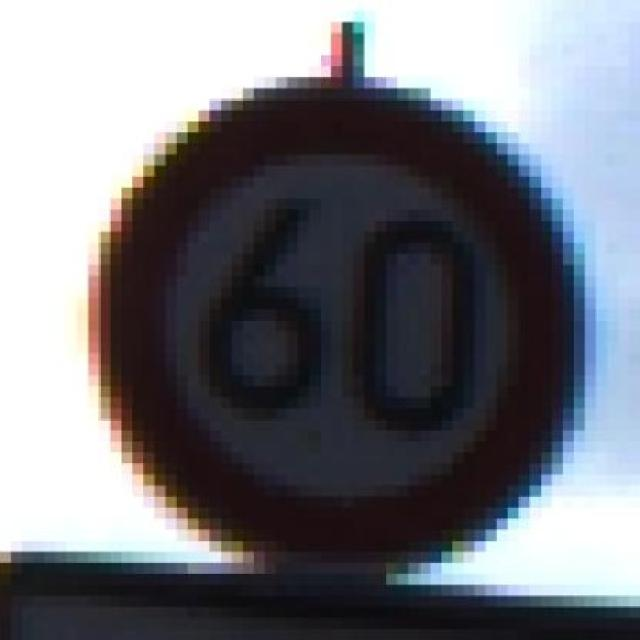forb_speed_over_60: (92, 83, 583, 566)
